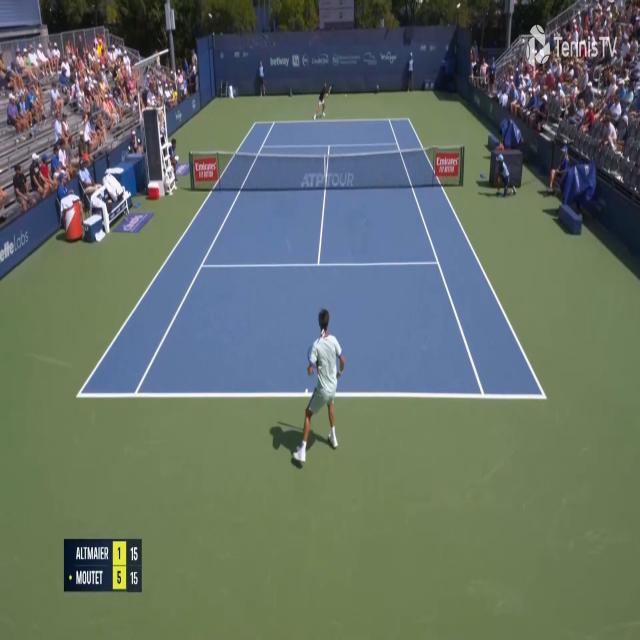tennis-player: (290, 304, 346, 472), (313, 80, 333, 122)
